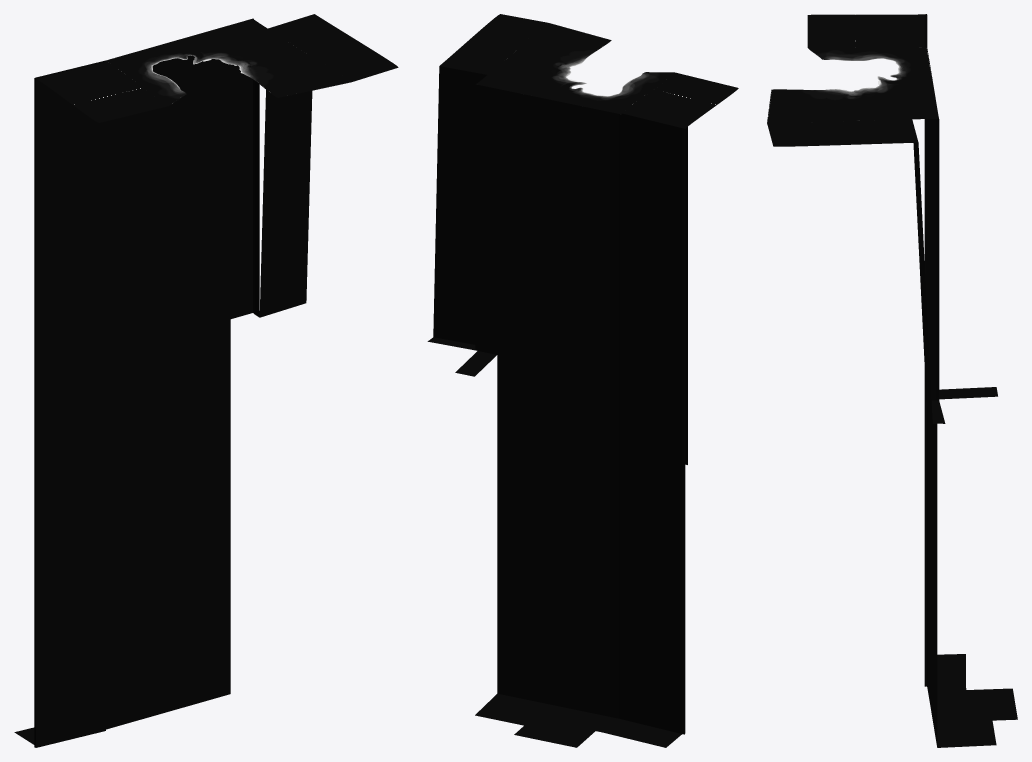
Rendered from terrain.obj.
3 views of the same model, side by side, from view 1: azimuth 30°, elevation 25°; view 2: azimuth 150°, elevation 25°; view 3: azimuth 270°, elevation 25° (orthographic). The views are drawn at different scales.
Parts seen in each view (by area): view 1: BézierCurve; view 2: BézierCurve; view 3: BézierCurve.
Part boxes in pixels (left/top/right/bottom): BézierCurve: left=14, top=14, right=398, bottom=747; BézierCurve: left=427, top=14, right=738, bottom=747; BézierCurve: left=767, top=14, right=1017, bottom=747.
Bounding box in the file's own units: 40.66 × 91.34 × 32.46.
